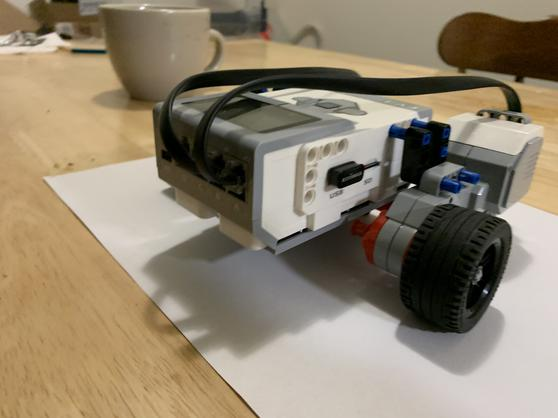robot: (149, 62, 558, 341)
